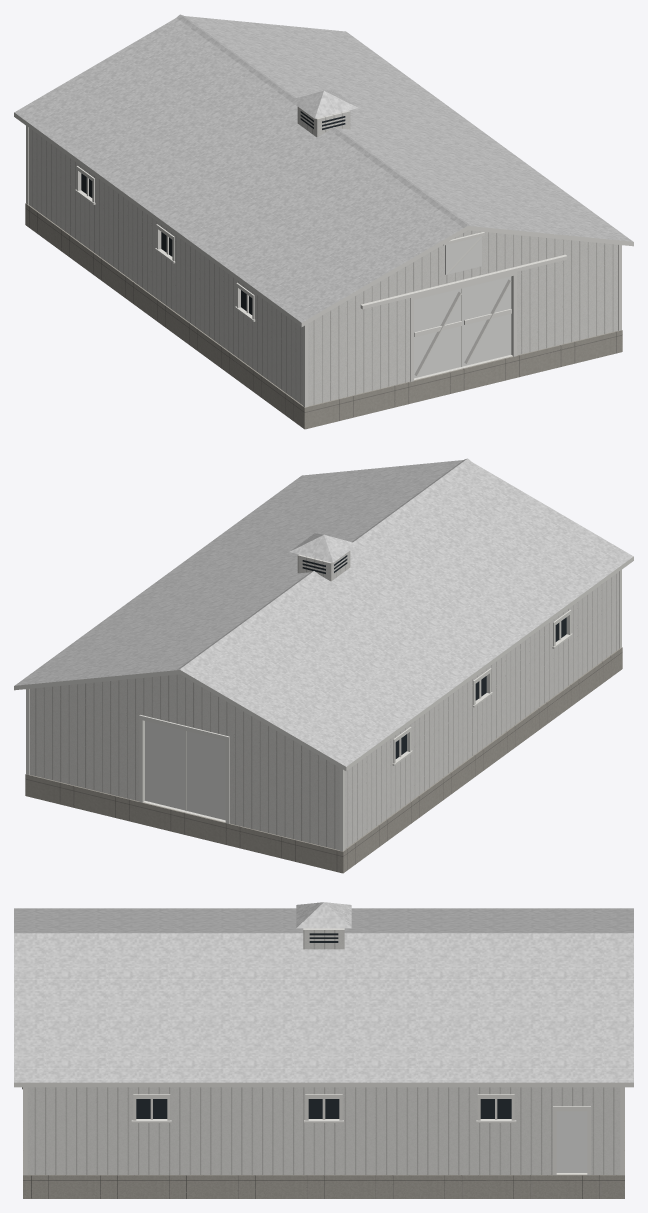
The model's file is barn.glb.
3 renders of one model, top to bottom at view 1: azimuth 30°, elevation 25°; view 2: azimuth 150°, elevation 25°; view 3: azimuth 270°, elevation 25°, orthographic. The views are drawn at different scales.
Parts seen in each view (by area): view 1: barn; view 2: barn; view 3: barn.
Boxes of the visible parts, <box> form: barn: <box>14,14,633,429</box>; barn: <box>14,458,633,873</box>; barn: <box>14,902,633,1198</box>.
Size of the model in its own units: 12 by 6.83 by 18.
6 materials, 3 textured.
